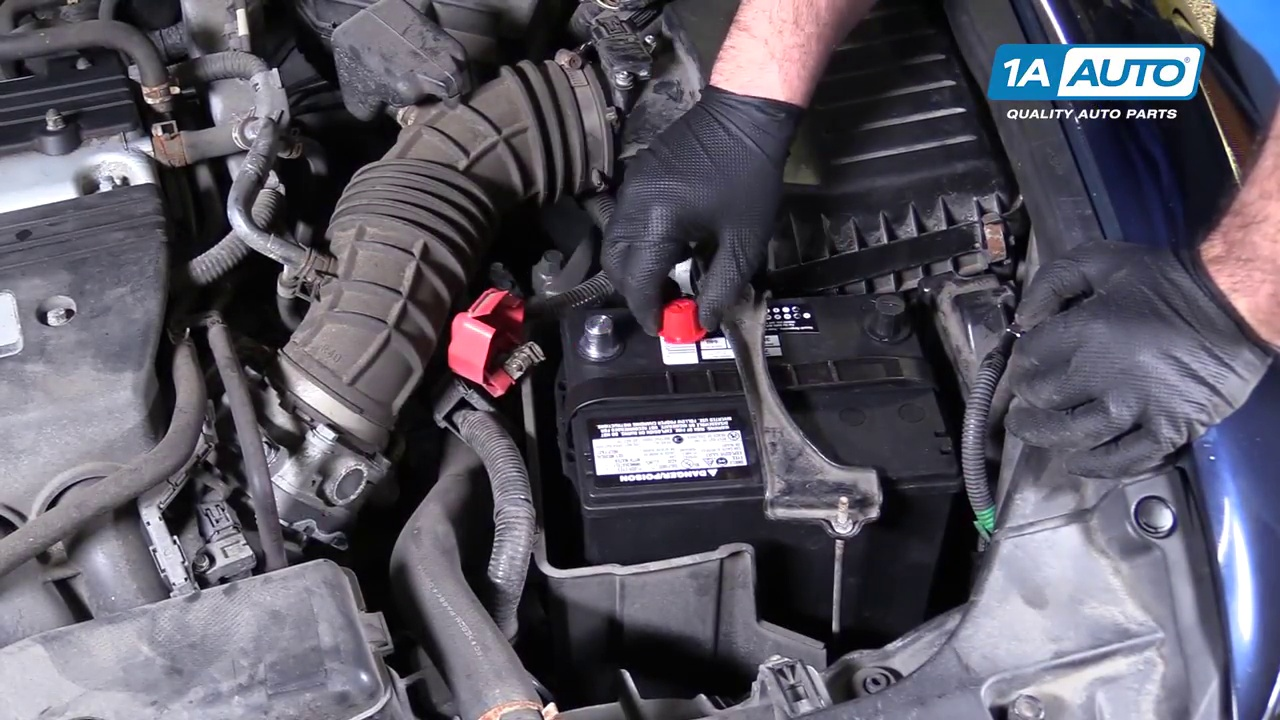battery: (557, 274, 952, 499)
pos_disconnected: (442, 224, 733, 405)
pos_touched: (432, 196, 760, 375)
